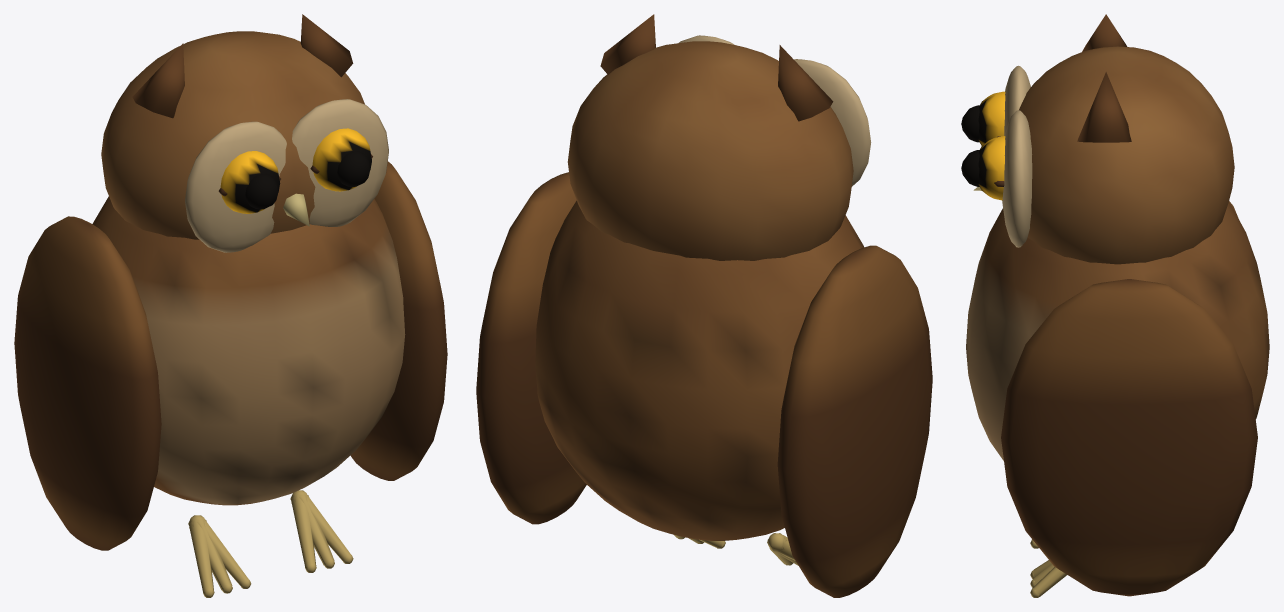
Rendered from Owl.glb.
3 views of the same model, side by side, from view 1: azimuth 30°, elevation 25°; view 2: azimuth 150°, elevation 25°; view 3: azimuth 270°, elevation 25° (orthographic). The views are drawn at different scales.
Parts seen in each view (by area): view 1: Body, WingLFeathers, Head, WingRFeathers, FaceDisc, EyesOpen, Talons, Tufts, Beak; view 2: Body, Head, WingLFeathers, WingRFeathers, Tufts, FaceDisc, Talons; view 3: WingRFeathers, Head, Body, FaceDisc, EyesOpen, Tufts, Talons.
Part boxes in pixels (x1,y1,x2,y2): Body: (92,196,405,505); WingLFeathers: (14,216,161,550); Head: (101,31,364,239); WingRFeathers: (350,161,447,480); FaceDisc: (185,99,388,252); EyesOpen: (220,128,371,213); Talons: (188,490,353,597); Tufts: (132,14,353,118); Beak: (283,193,309,226); Body: (535,200,863,540); Head: (567,41,853,260); WingLFeathers: (777,245,932,597); WingRFeathers: (476,172,586,524); Tufts: (600,14,833,121); FaceDisc: (678,35,871,186); Talons: (674,533,798,565); WingRFeathers: (1001,279,1257,596); Head: (1019,46,1234,264); Body: (966,202,1269,460); FaceDisc: (1002,65,1032,247); EyesOpen: (961,91,1005,200); Tufts: (1077,14,1131,142); Talons: (1030,539,1066,597).
Size of the model in its own units: 0.35 by 0.4926 by 0.264.
